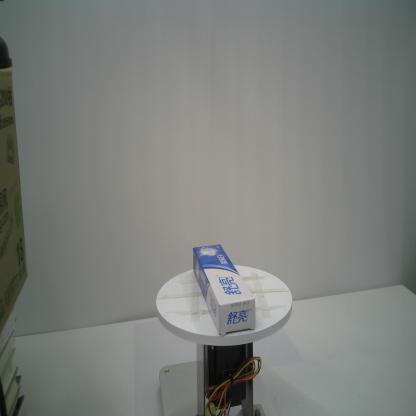Personal Hygiene: (192, 245, 256, 335)
